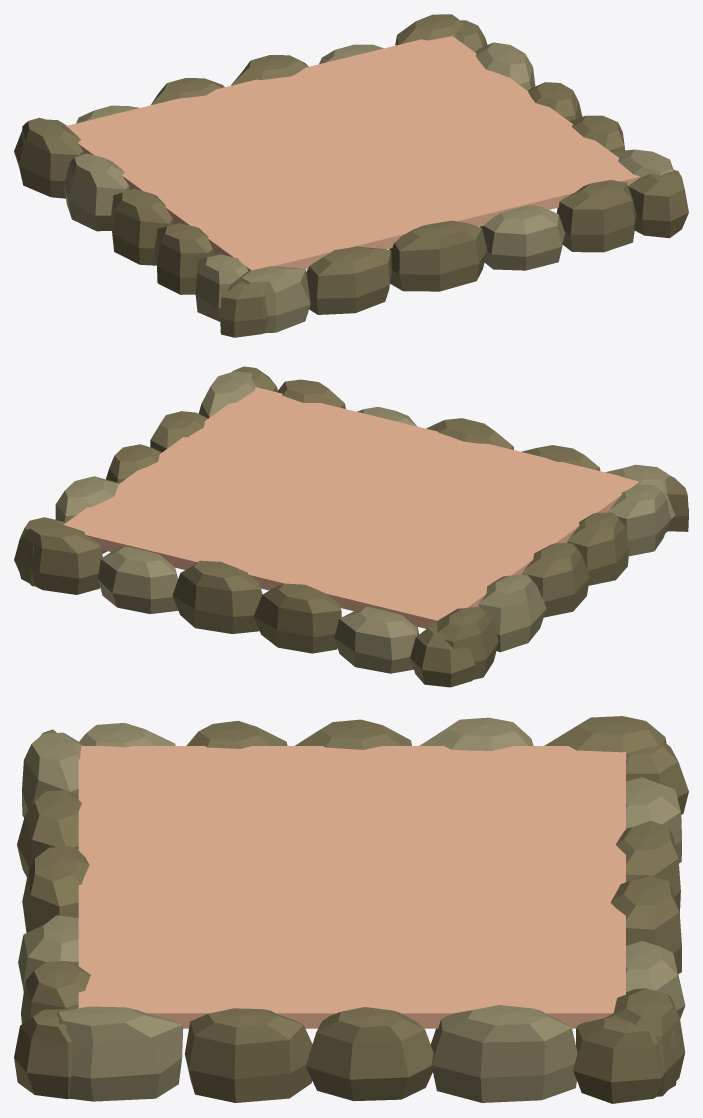
The model's file is feed-store-foundation.glb.
The picture shows the model from 3 angles, top to bottom: view 1: azimuth 30°, elevation 25°; view 2: azimuth 150°, elevation 25°; view 3: azimuth 270°, elevation 25°; orthographic projection. The views are drawn at different scales.
Parts seen in each view (by area): view 1: floor, footing, footing_light; view 2: floor, footing, footing_light; view 3: floor, footing, footing_light.
Boxes of the visible parts, x1,y1,x2,y2 form: floor: (66,36,639,271); footing: (14,14,688,337); footing_light: (64,42,673,333); floor: (63,387,639,628); footing: (14,366,688,687); footing_light: (55,371,675,673); floor: (78,746,625,1028); footing: (14,716,688,1103); footing_light: (18,717,685,1102).
Size of the model in its own units: 2.69 by 0.3057 by 2.39.
